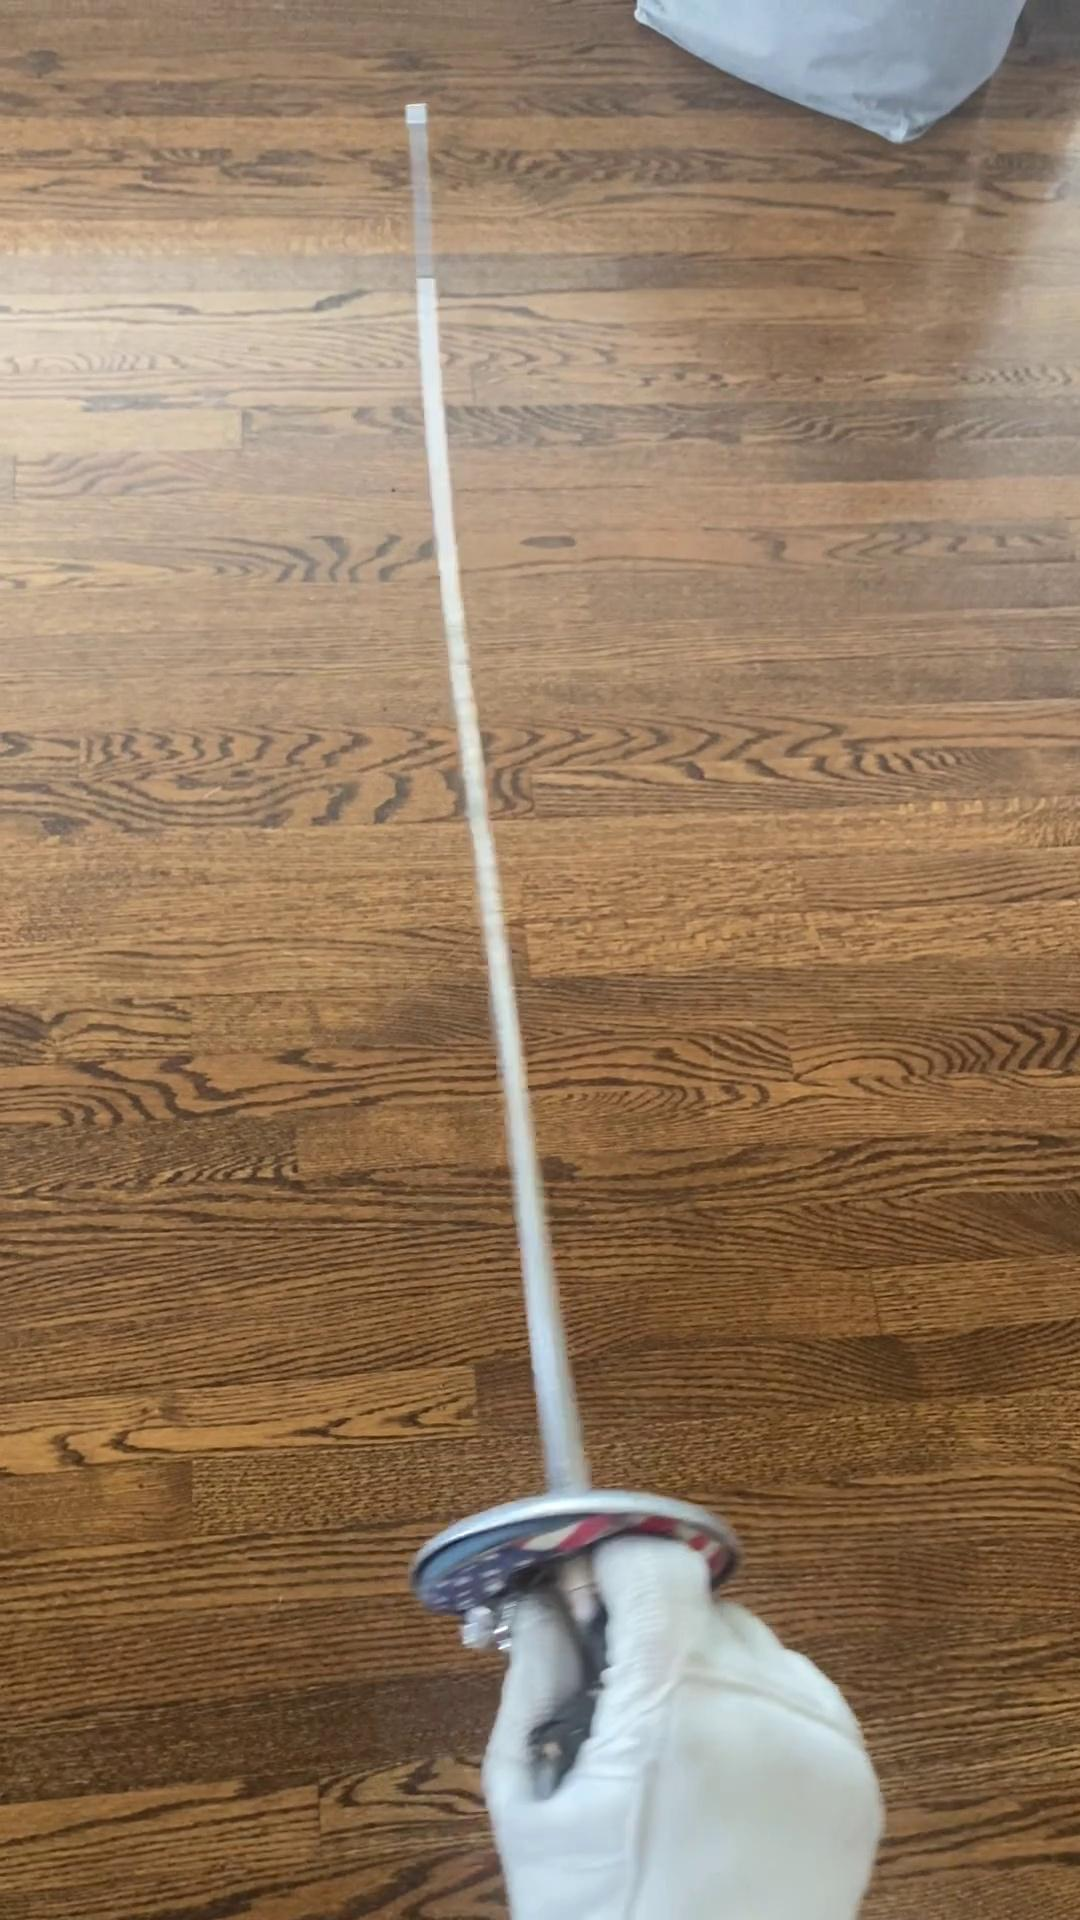blade-guard: (400, 1476, 752, 1658)
blade-tip: (402, 98, 443, 285)
fencing-blade: (389, 76, 750, 1854)
